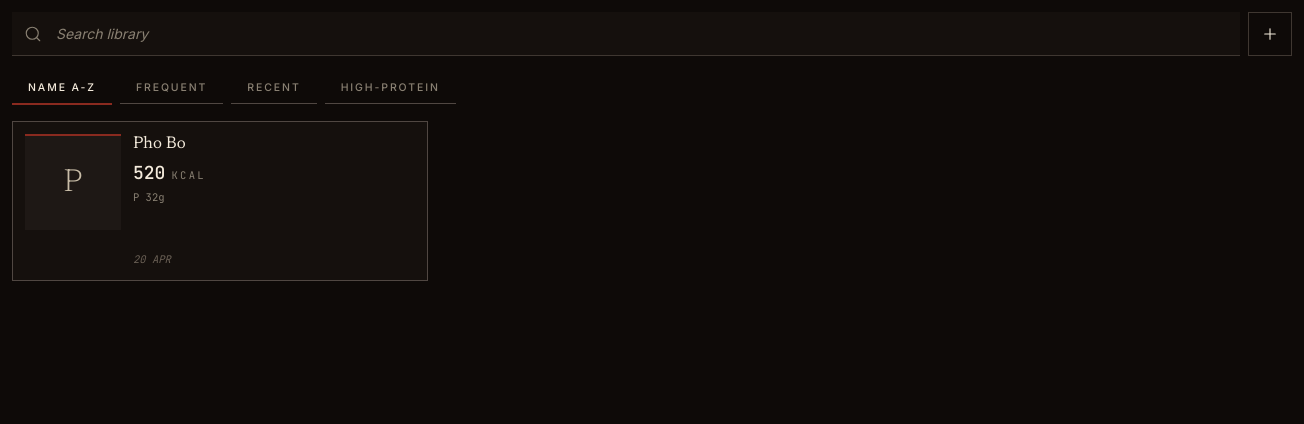
Test: LibraryTab — quantity input breakpoint switch › desktop (useIsMobile=false): renders the inline number input
Click the option with test id "library-card-a" at (73, 182), box [12,120,428,280]
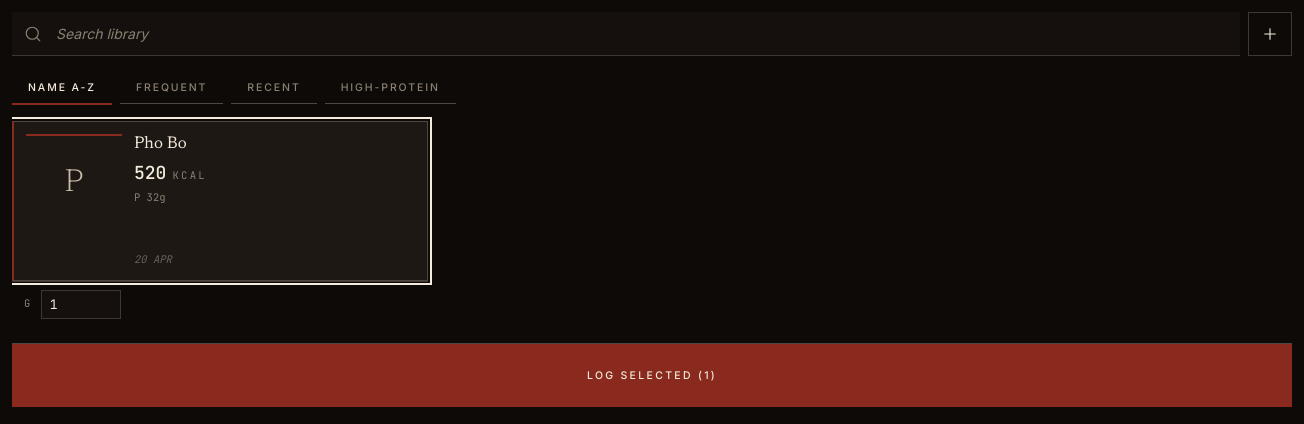
expect the number field with test id "library-quantity-a" is shown: met, box [41,290,121,319]
